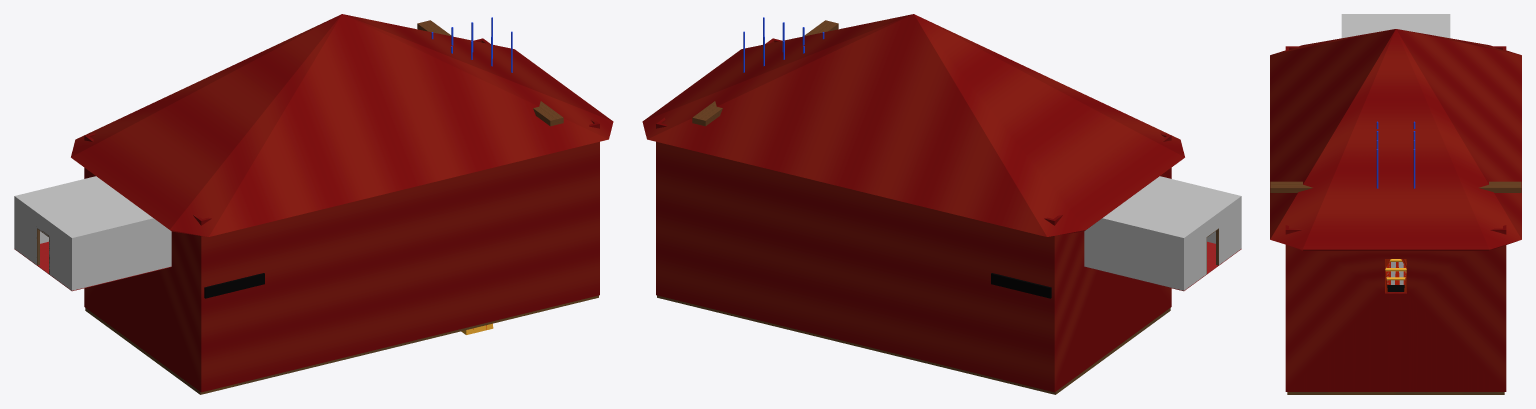
File: tent.obj
3 views of the same model, side by side, from view 1: azimuth 30°, elevation 25°; view 2: azimuth 150°, elevation 25°; view 3: azimuth 270°, elevation 25° (orthographic). The views are drawn at different scales.
Parts seen in each view (by area): view 1: tent; view 2: tent; view 3: tent.
Boxes of the visible parts, x1,y1,x2,y2 form: tent: [14, 14, 613, 394]; tent: [642, 14, 1241, 394]; tent: [1270, 14, 1521, 394].
Size of what is drawn, in the model's own units: 105 by 56.68 by 46.34.
